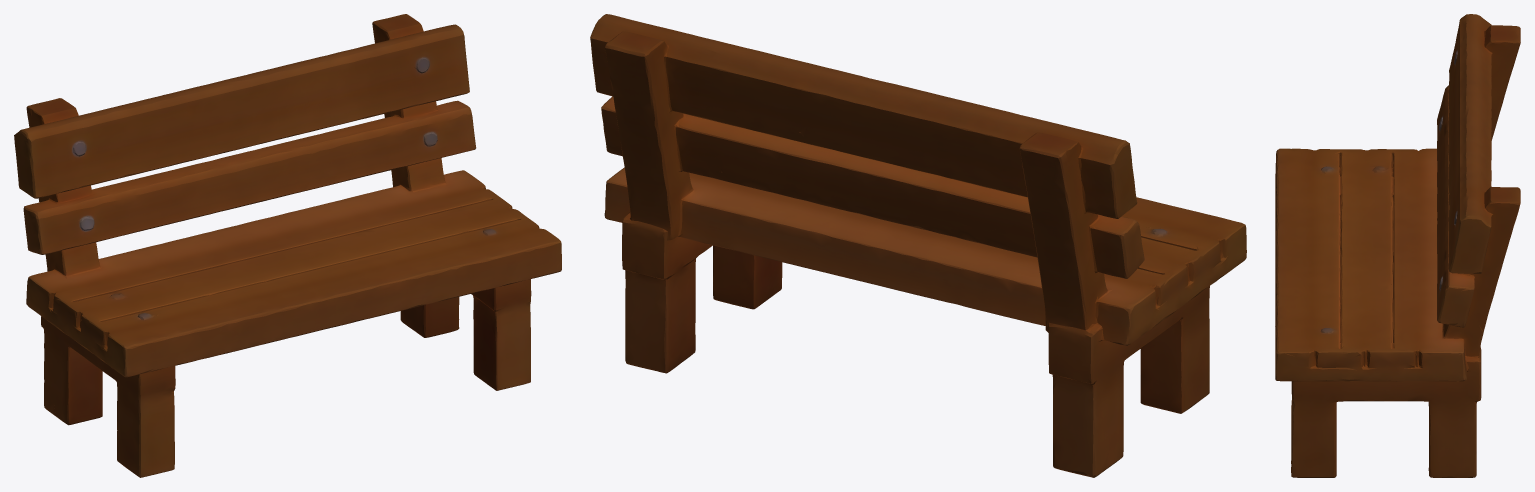
File: bench.fbx
3 renders of one model, left to right at view 1: azimuth 30°, elevation 25°; view 2: azimuth 150°, elevation 25°; view 3: azimuth 270°, elevation 25°, orthographic. The views are drawn at different scales.
Visible parts, largest first — view 1: model; view 2: model; view 3: model.
Boxes of the visible parts, x1,y1,x2,y2 form: model: (14, 14, 561, 477); model: (590, 14, 1246, 477); model: (1275, 14, 1520, 477).
Bounding box in the file's own units: 190 × 119 × 96.62.
1 material, 1 textured.
